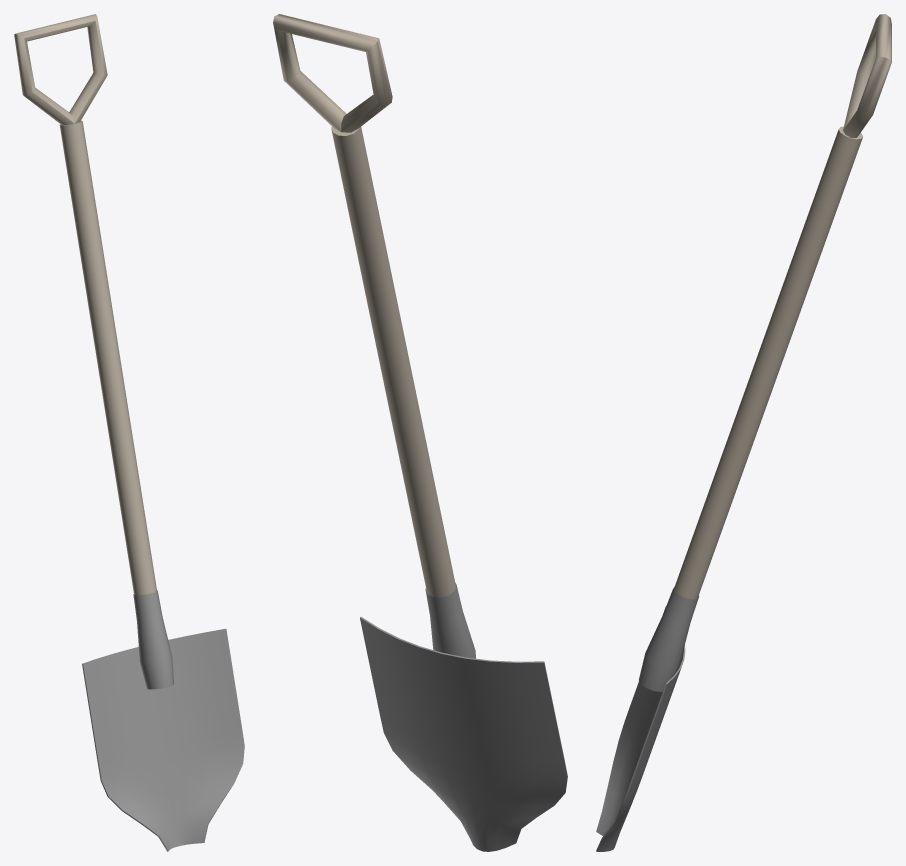
File: shovel_leaning.glb
3 renders of one model, left to right at view 1: azimuth 30°, elevation 25°; view 2: azimuth 150°, elevation 25°; view 3: azimuth 270°, elevation 25°, orthographic. The views are drawn at different scales.
Parts seen in each view (by area): view 1: shovel; view 2: shovel; view 3: shovel.
Boxes of the visible parts, x1,y1,x2,y2 form: shovel: (14, 14, 244, 851); shovel: (273, 14, 567, 851); shovel: (596, 14, 891, 851).
Size of the model in its own units: 0.242 by 1.18 by 0.3883.
